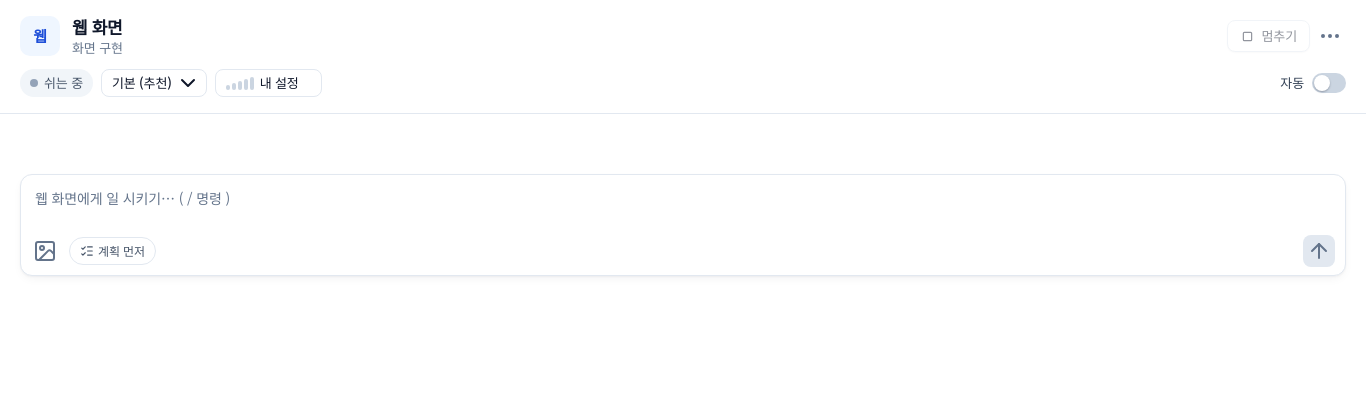
Test: ModelPicker › 별칭만 있으면 이름표가 없다
Click the button with aria-label "모델". click: coordinates (154, 83)
box: [101, 69, 207, 97]
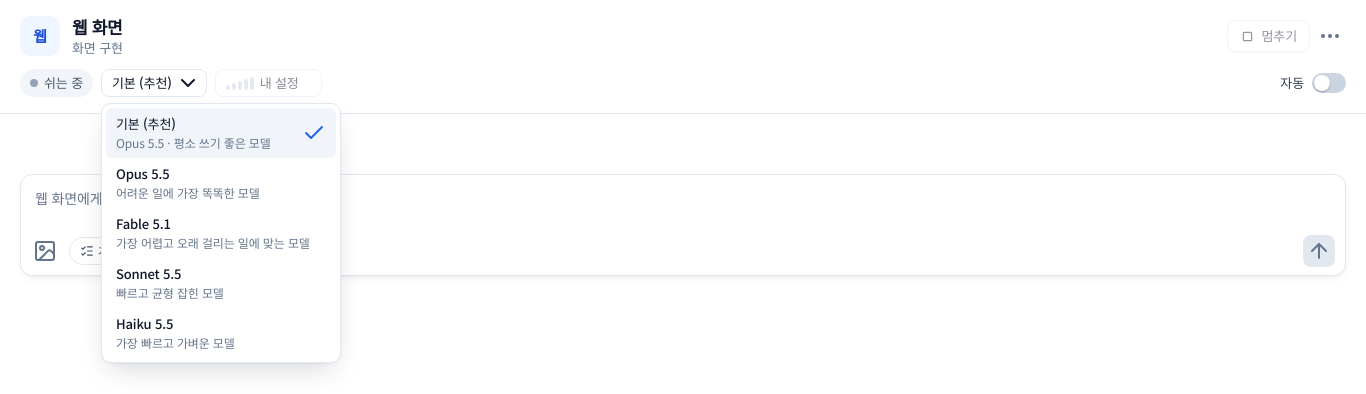
Now the number of menu items is 5, box [106, 108, 336, 158]; [106, 158, 336, 208]; [106, 208, 336, 258]; [106, 258, 336, 308]; [106, 308, 336, 358]
